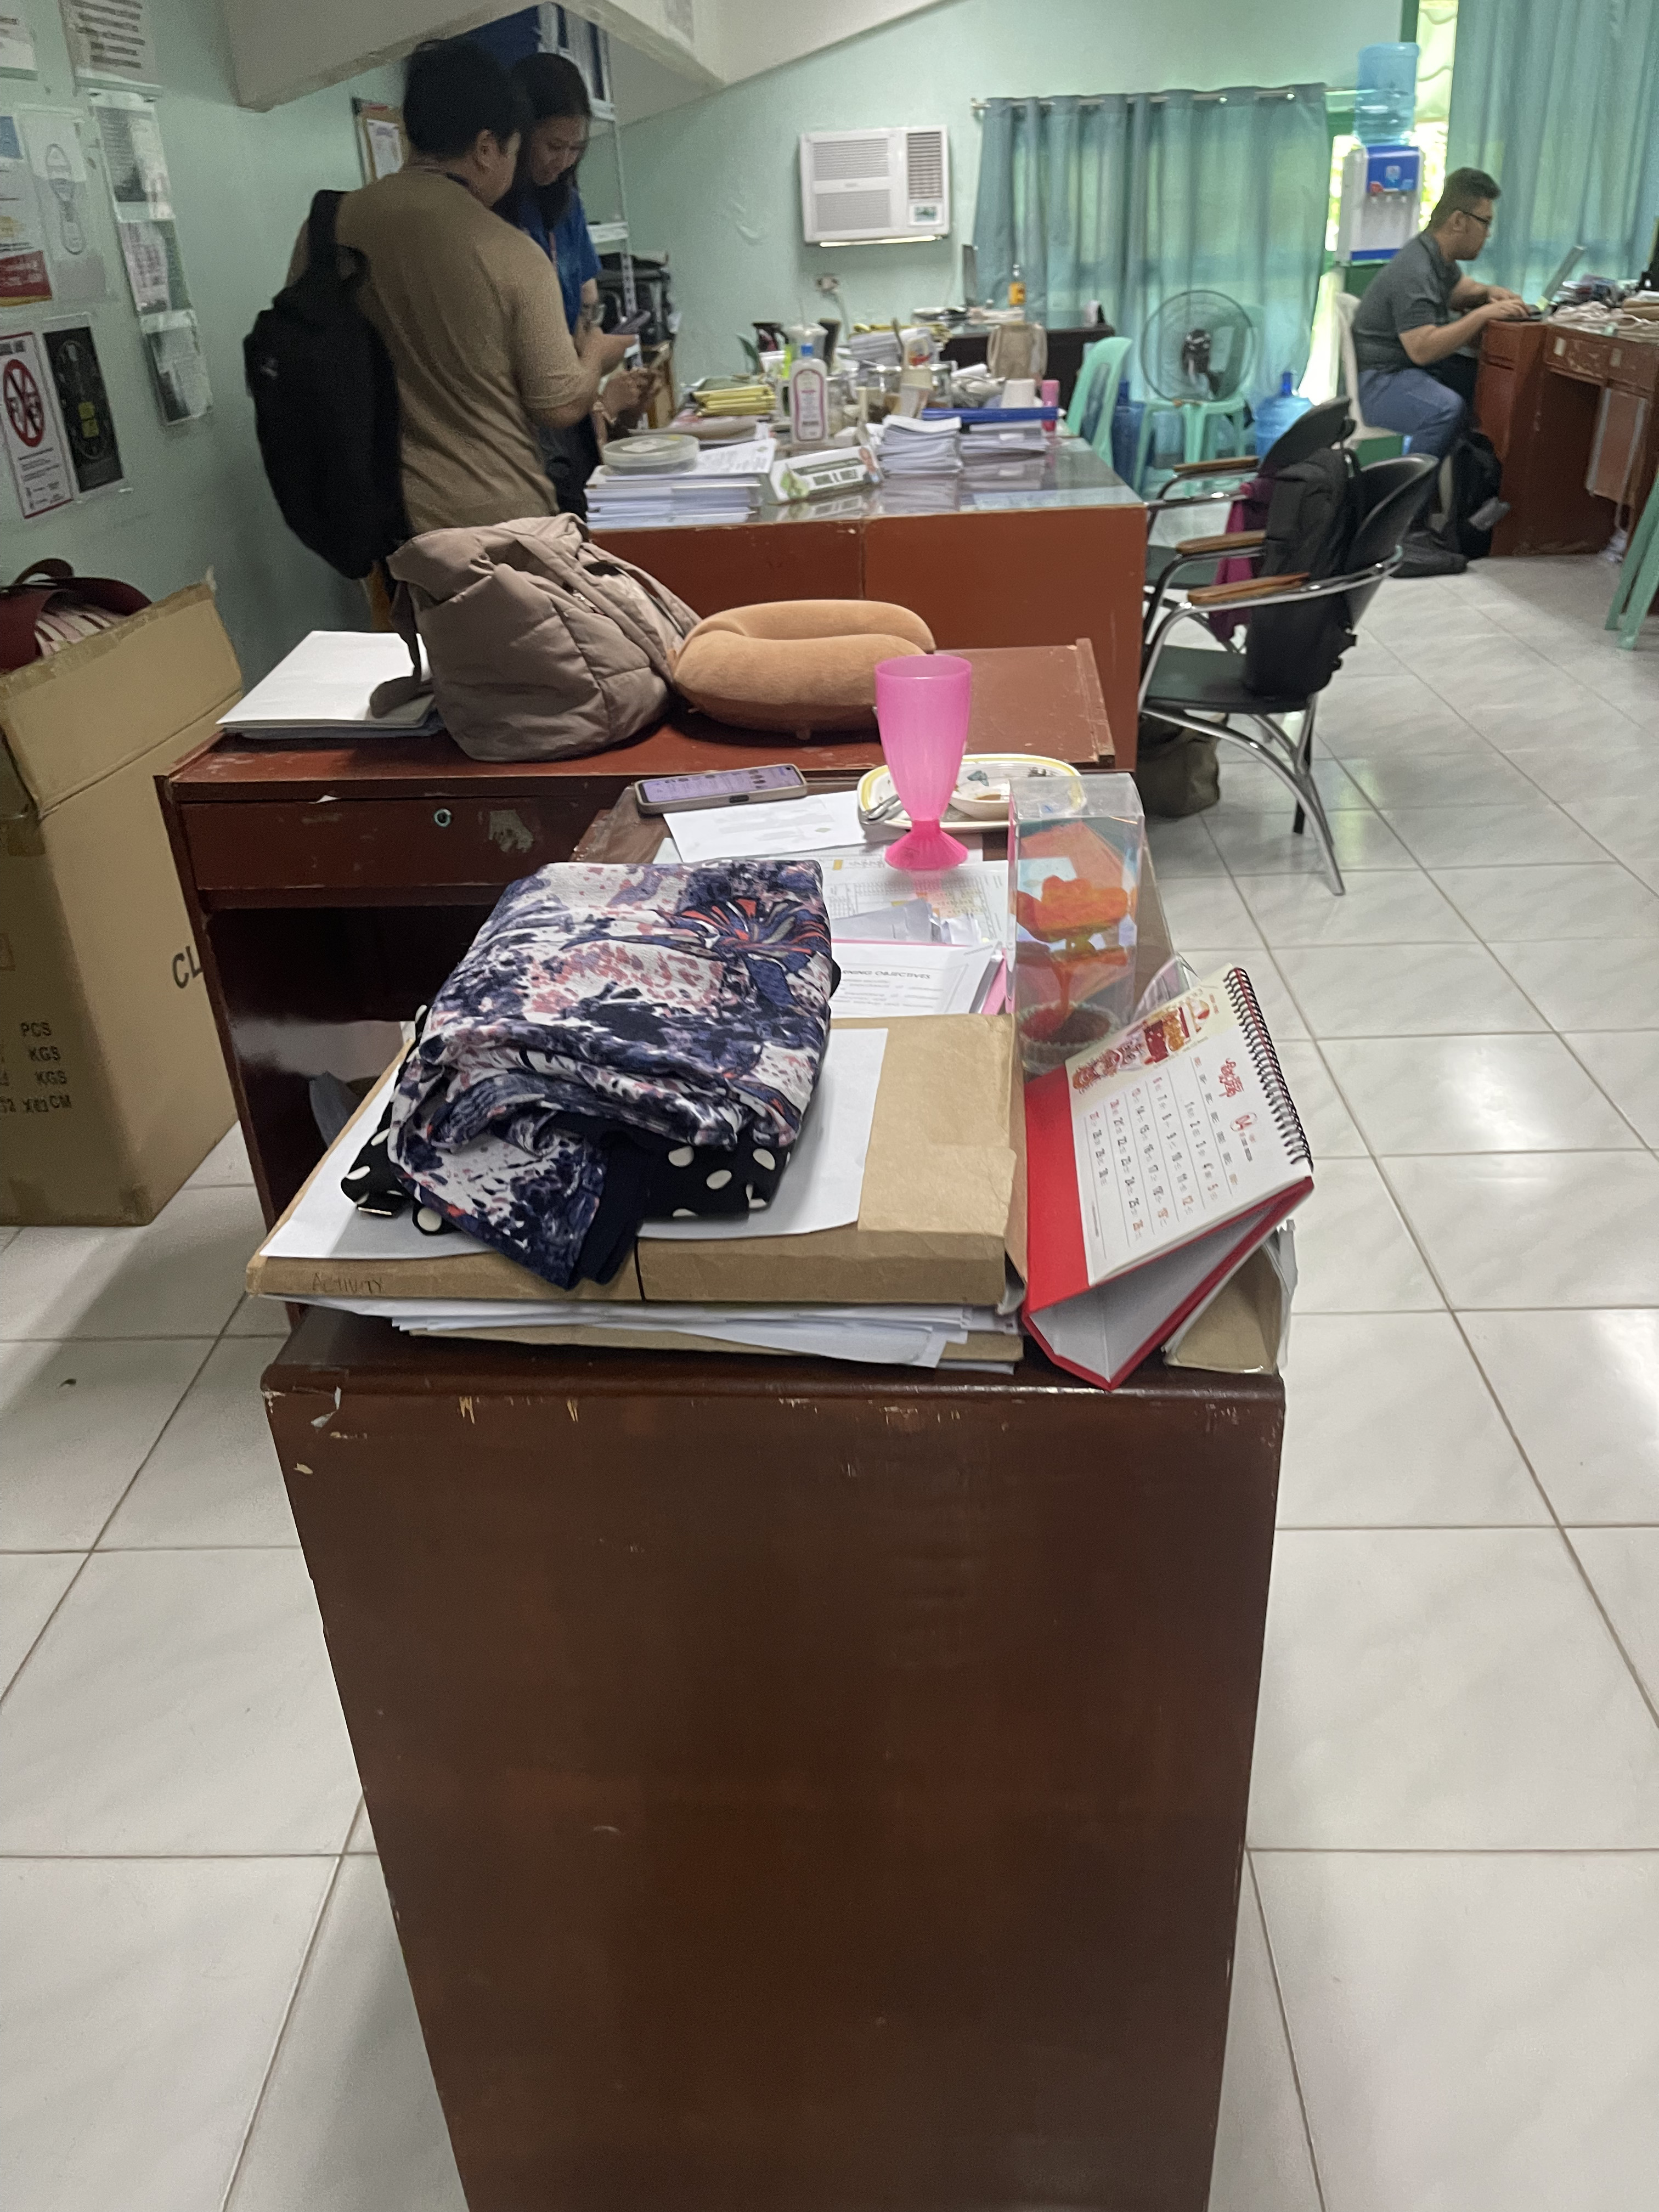table2: (160, 604, 1290, 2212)
